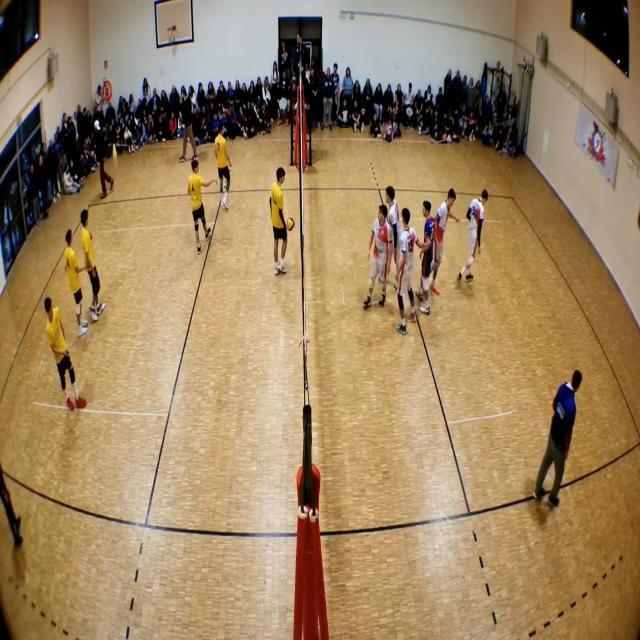volleyball: (286, 216, 296, 232)
